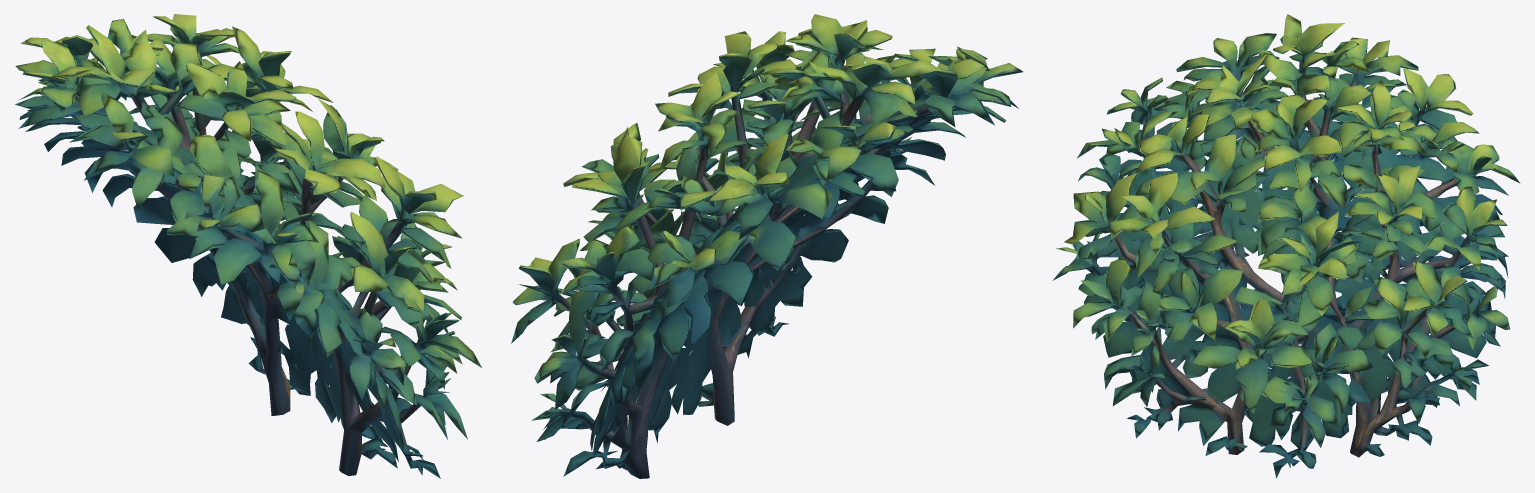
The model's file is arbusto.glb.
3 renders of one model, left to right at view 1: azimuth 30°, elevation 25°; view 2: azimuth 150°, elevation 25°; view 3: azimuth 270°, elevation 25°, orthographic. The views are drawn at different scales.
Visible parts, largest first — view 1: tripo_node_ac0ff0d0-0baf-48ff-9c8a-3e22a86de831; view 2: tripo_node_ac0ff0d0-0baf-48ff-9c8a-3e22a86de831; view 3: tripo_node_ac0ff0d0-0baf-48ff-9c8a-3e22a86de831.
Part boxes in pixels (x1,y1,x2,y2): tripo_node_ac0ff0d0-0baf-48ff-9c8a-3e22a86de831: (15, 14, 481, 478); tripo_node_ac0ff0d0-0baf-48ff-9c8a-3e22a86de831: (511, 14, 1023, 478); tripo_node_ac0ff0d0-0baf-48ff-9c8a-3e22a86de831: (1052, 14, 1520, 478).
Size of the model in its own units: 0.7412 by 0.8433 by 1.
1 material, 1 textured.
